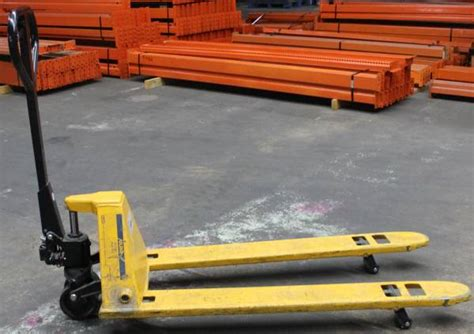Pallet Jack: (8, 6, 474, 330)
